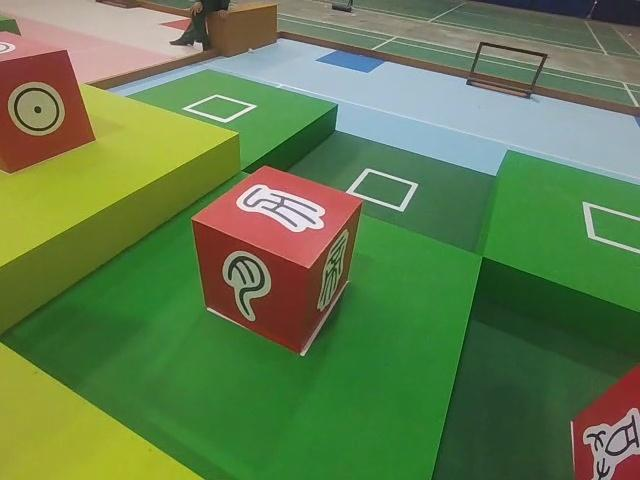R2 Fake: (188, 161, 366, 355)
R2 Real: (0, 28, 98, 179), (570, 353, 640, 480)
